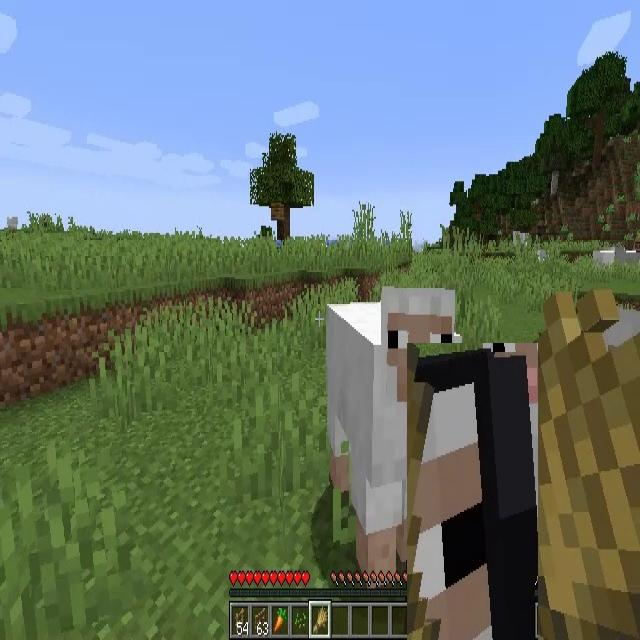sheep: (323, 288, 464, 571), (407, 343, 538, 640), (590, 246, 616, 275), (537, 250, 548, 268)
